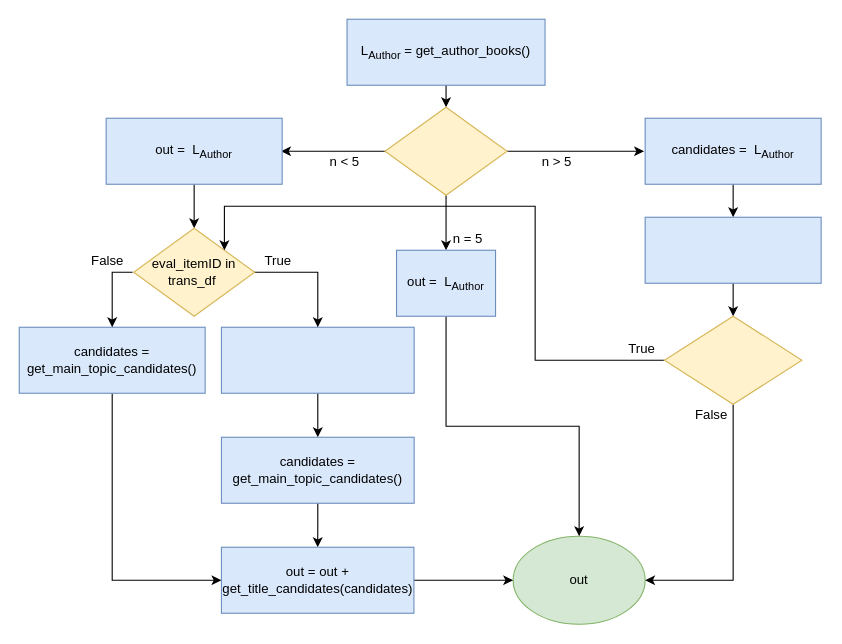
Image size: 842x644. Some labels were removed from this diagram. Each missing label, with the centre of its shape:
"candidates = get_trans_candidates()" goes at [317,359].
"len(L Author ) = n" goes at [445,150].
"out < 5" goes at [732,359].
"out = get_title_candidates(thrs=0.8)" goes at [732,249].
